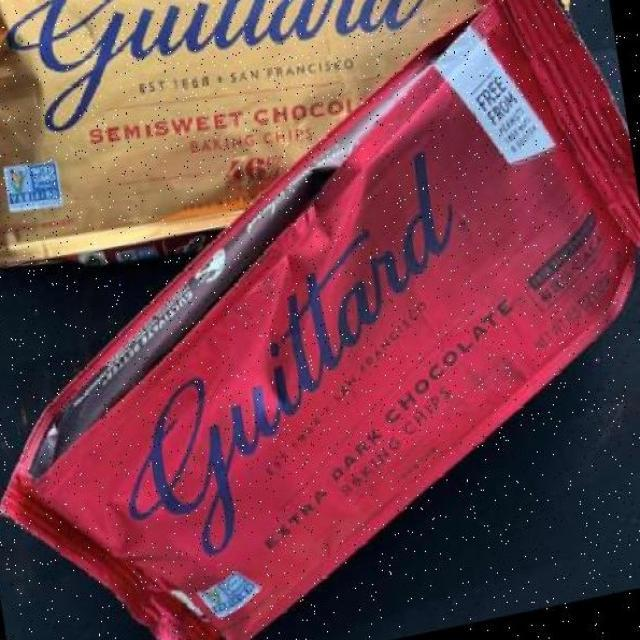Dry Waste: (3, 0, 640, 386), (0, 388, 521, 636), (631, 0, 634, 1)
